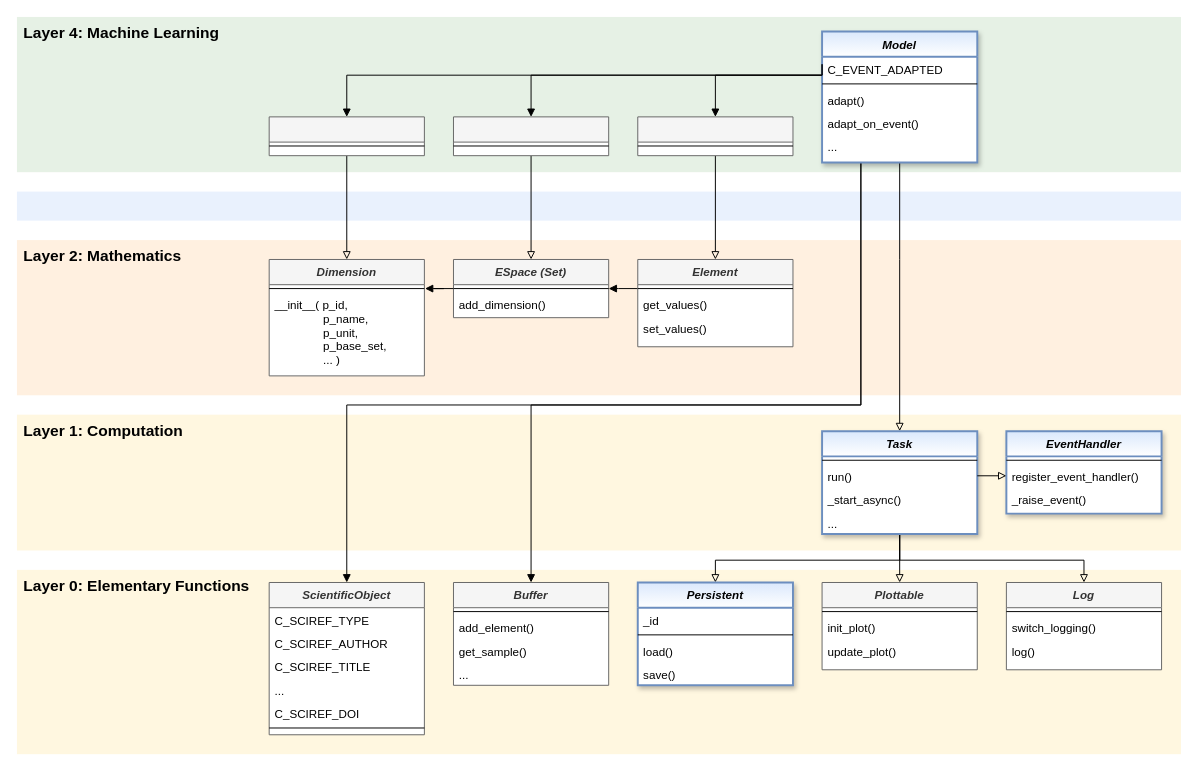
This 1197x770 diagram has some shape labels left out. Each missing label, with the centre of its shape:
"HyperParam" goes at (x=346, y=136).
"HyperParamSpace" goes at (x=531, y=136).
"HyperParamTuple" goes at (x=715, y=136).
"Layer 3: Application Support" goes at (x=598, y=205).
